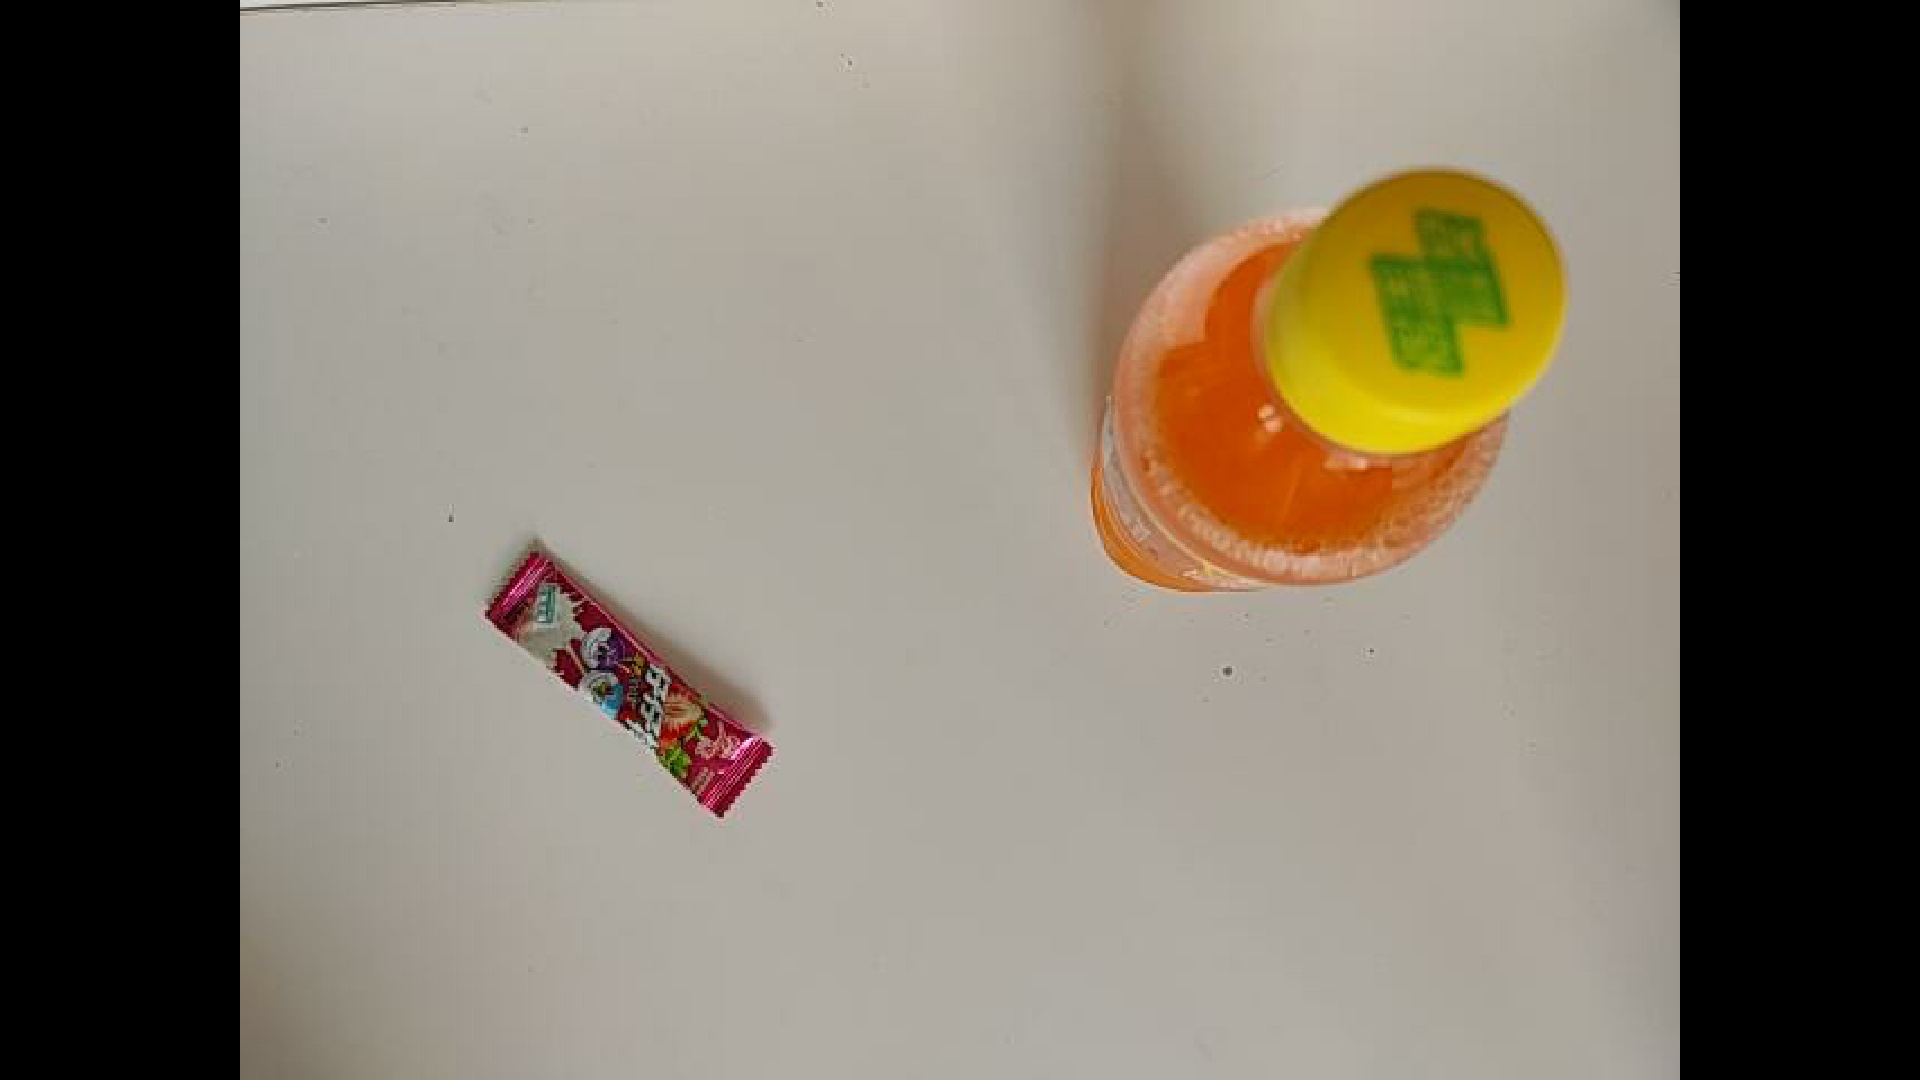fenta: (1089, 167, 1572, 596)
sugar: (425, 539, 783, 732)
